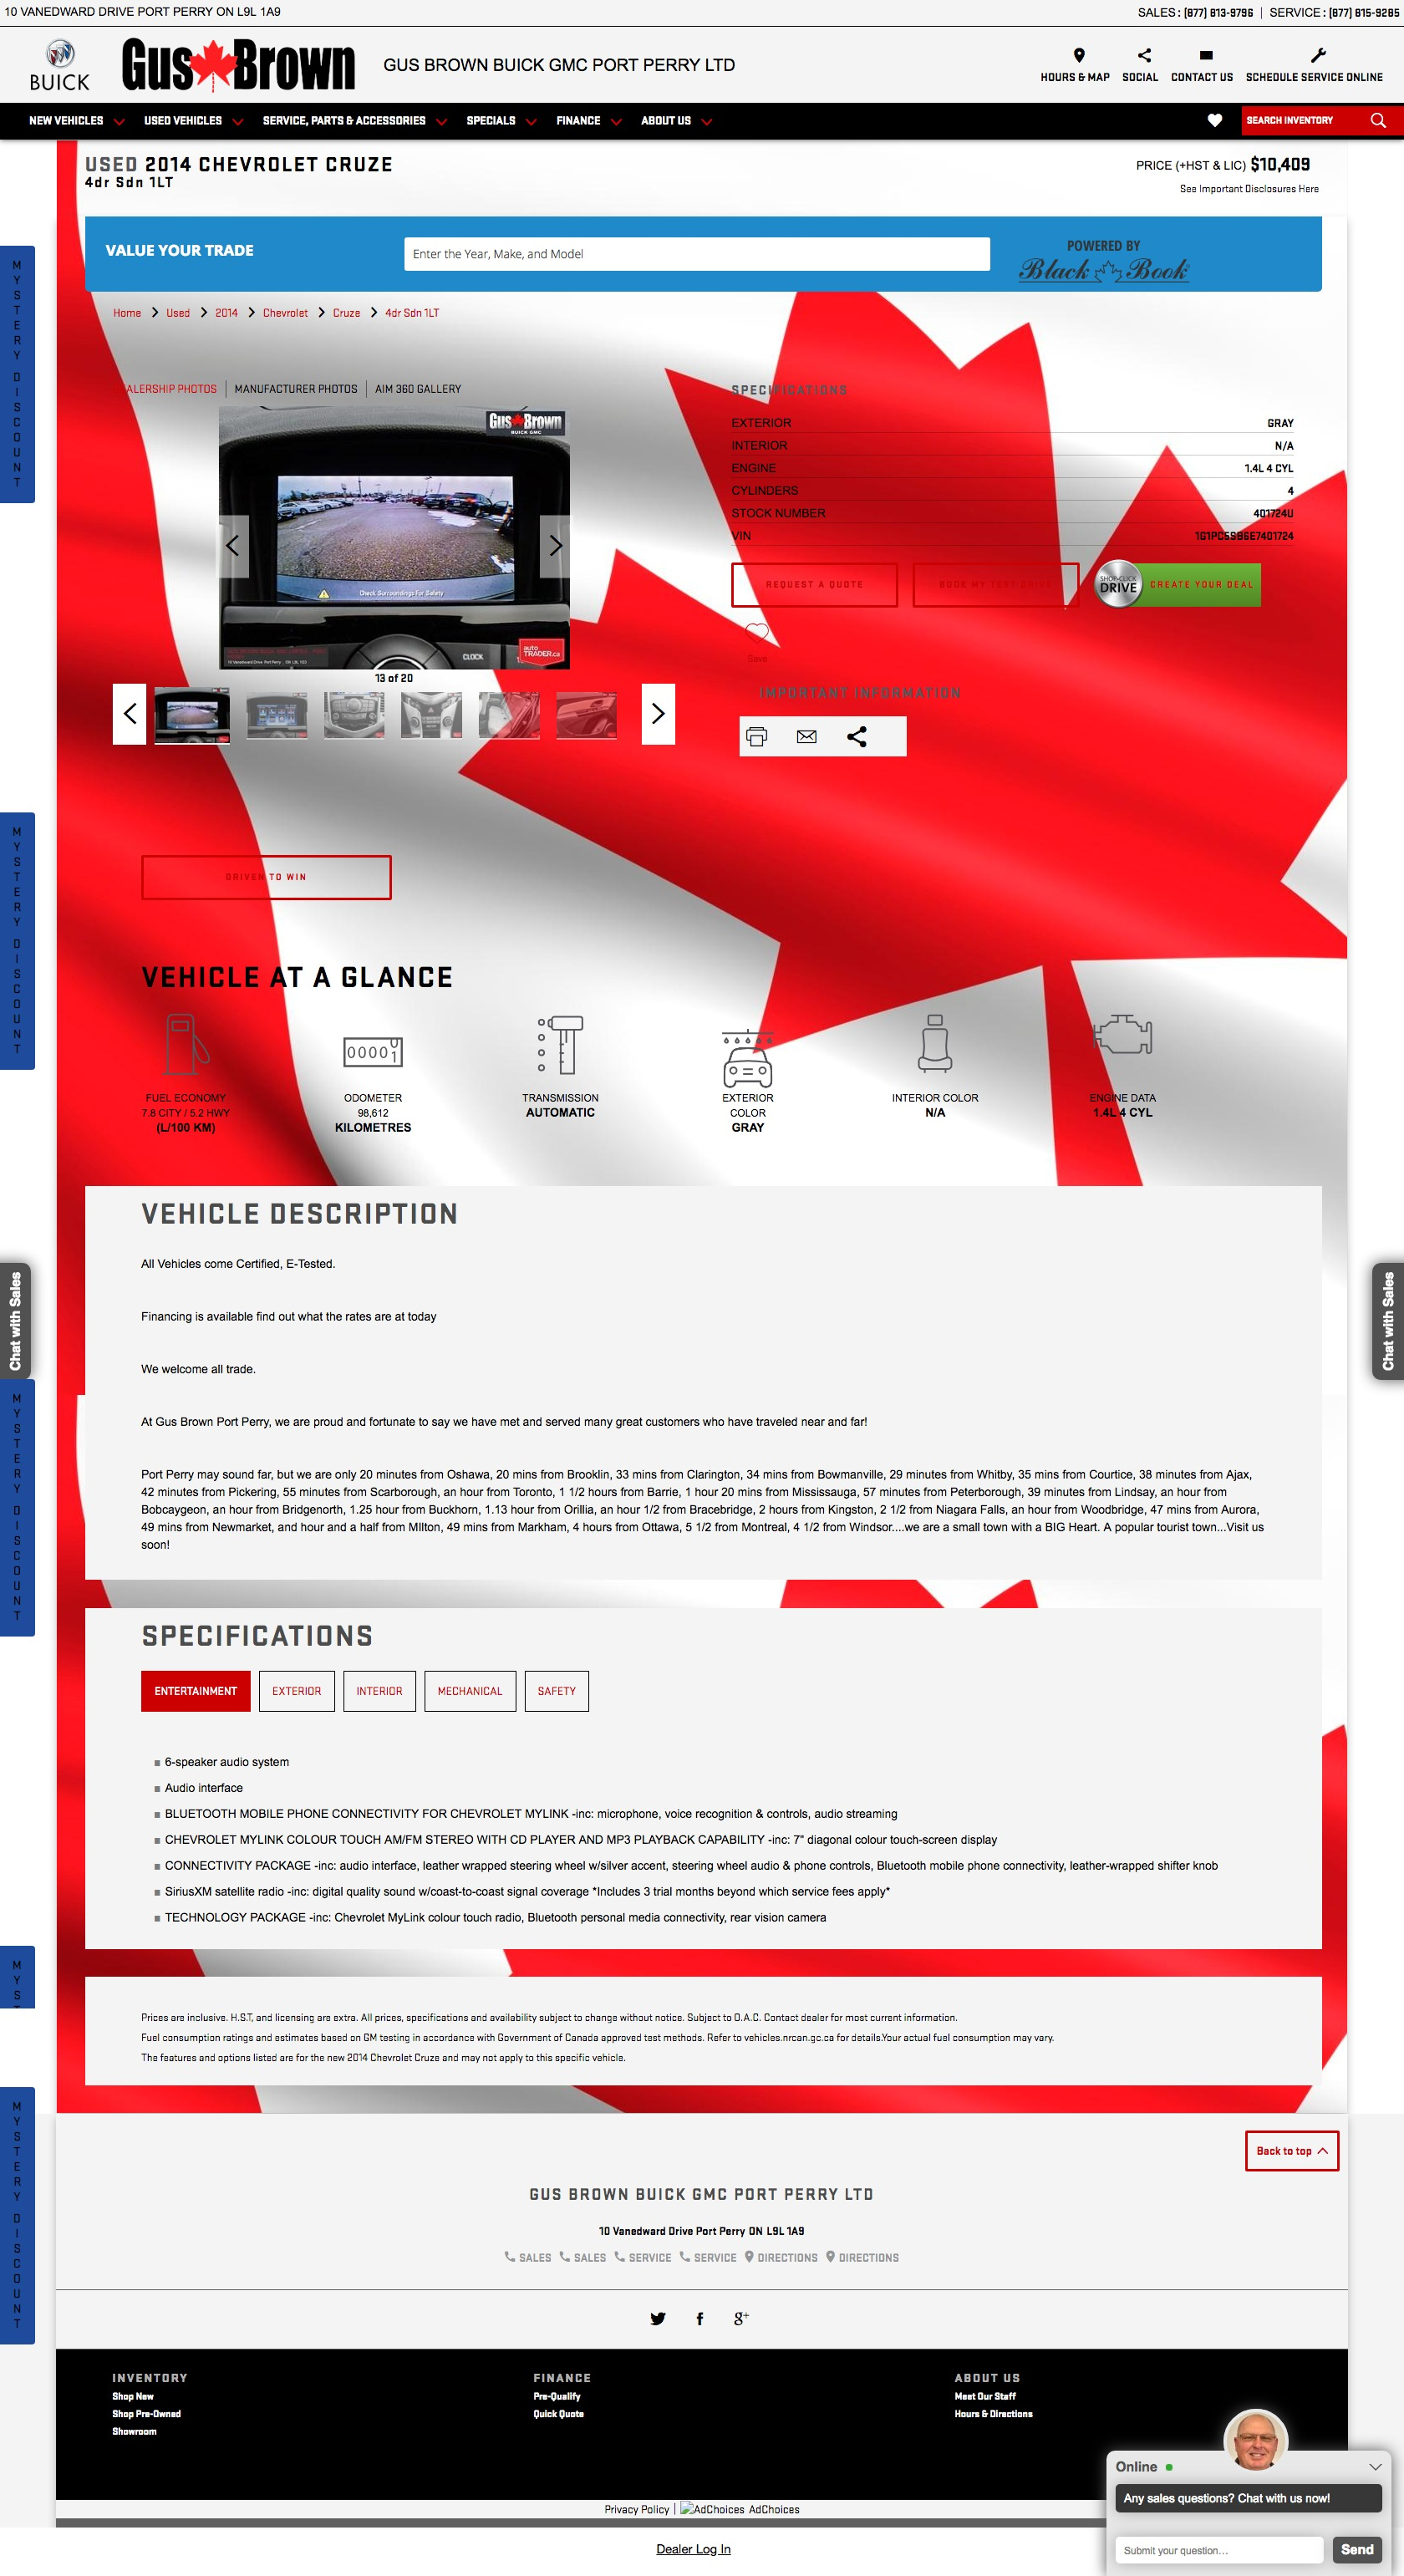car: (652, 704, 666, 726)
